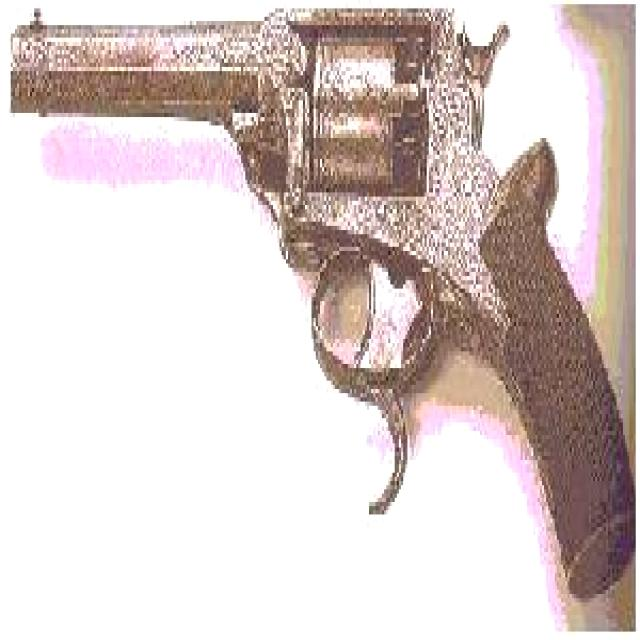pistol: (11, 0, 640, 585)
